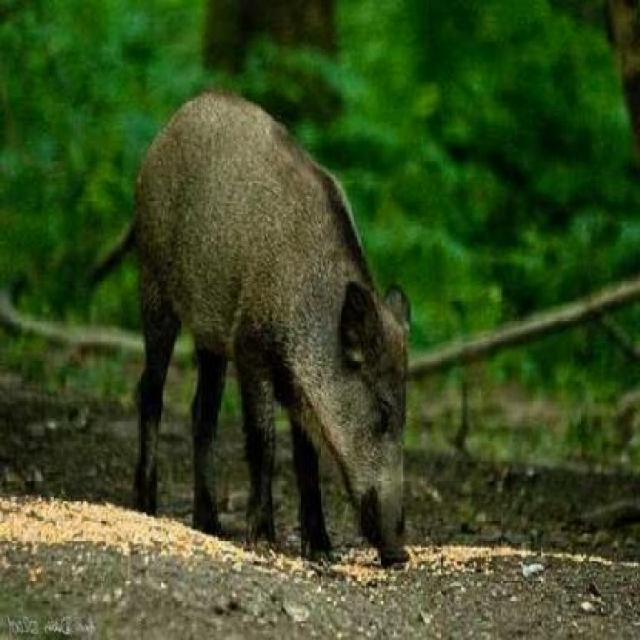Boar: (113, 97, 421, 569)
